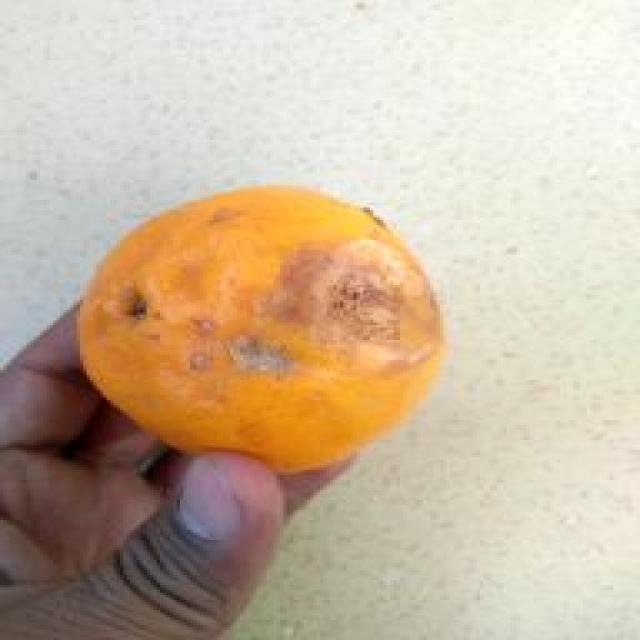Bad_Orange: (78, 186, 443, 471)
